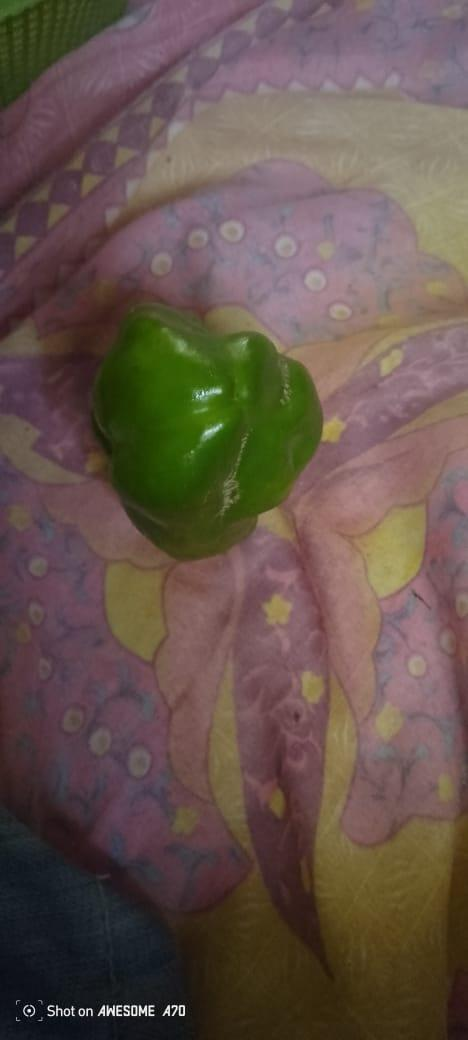non-mango: (93, 304, 318, 569)
